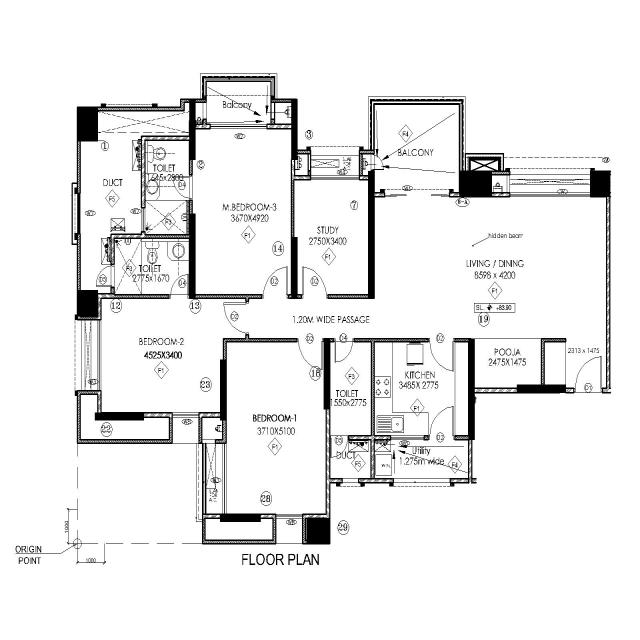Column: (366, 169, 377, 299), (457, 169, 494, 201), (467, 338, 478, 442), (75, 105, 100, 143), (304, 517, 332, 547), (588, 168, 613, 200), (75, 289, 101, 319), (322, 335, 332, 411), (289, 97, 300, 161), (188, 212, 196, 300), (187, 96, 197, 162), (516, 383, 567, 395), (219, 358, 228, 421), (290, 234, 298, 302), (219, 512, 263, 524), (94, 412, 145, 422)
Door: (574, 386, 604, 396), (428, 337, 458, 345), (261, 292, 289, 300), (188, 171, 195, 200), (296, 337, 323, 344), (245, 299, 250, 335), (301, 294, 329, 300), (428, 434, 456, 440), (110, 262, 116, 288), (334, 337, 356, 344), (328, 434, 350, 440), (168, 292, 188, 298)
Sliding Door: (382, 190, 452, 199), (209, 122, 268, 132)
Window: (508, 192, 592, 200), (221, 441, 228, 515), (73, 186, 82, 241), (309, 175, 362, 181), (388, 434, 425, 442), (274, 512, 303, 520), (140, 204, 147, 233), (171, 411, 200, 418)
